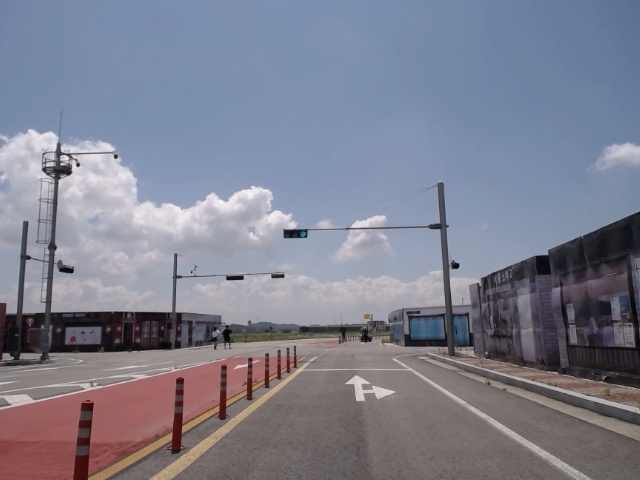green_3: (283, 229, 307, 239)
